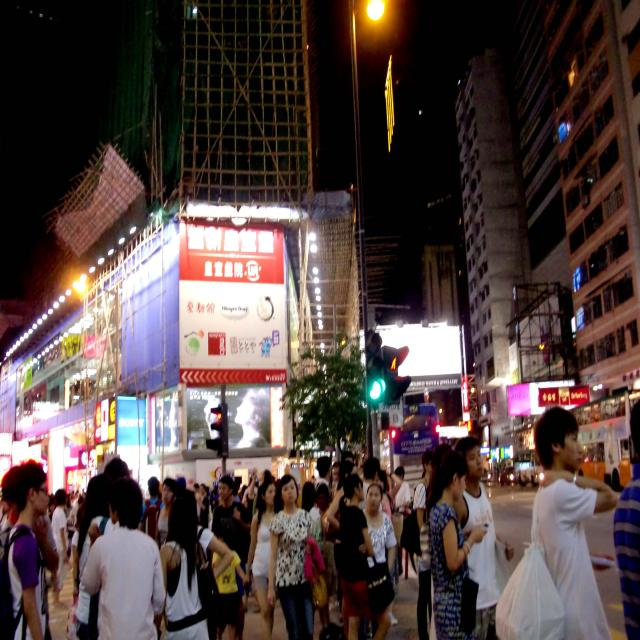body: (530, 406, 619, 639), (81, 478, 168, 640), (422, 445, 490, 640), (452, 435, 515, 640), (152, 494, 226, 640), (0, 461, 51, 640), (150, 385, 280, 455), (266, 472, 319, 640), (57, 473, 110, 640), (612, 391, 640, 640), (334, 471, 374, 640), (399, 446, 433, 640), (243, 477, 280, 640), (211, 475, 249, 596), (363, 482, 397, 607), (211, 528, 247, 640), (14, 384, 107, 426), (314, 456, 336, 632), (47, 485, 72, 610), (196, 520, 236, 583), (392, 463, 412, 580), (0, 463, 20, 562), (139, 475, 164, 551), (484, 458, 540, 487), (582, 419, 610, 471), (156, 469, 175, 539), (361, 457, 384, 512), (191, 476, 214, 531), (238, 468, 262, 516), (331, 452, 365, 479), (326, 584, 344, 635), (310, 481, 335, 517), (102, 456, 132, 484), (48, 488, 56, 592), (239, 575, 258, 615), (379, 467, 395, 512), (405, 482, 419, 527), (391, 580, 402, 632), (300, 481, 316, 511), (263, 468, 274, 488), (177, 470, 187, 488)
